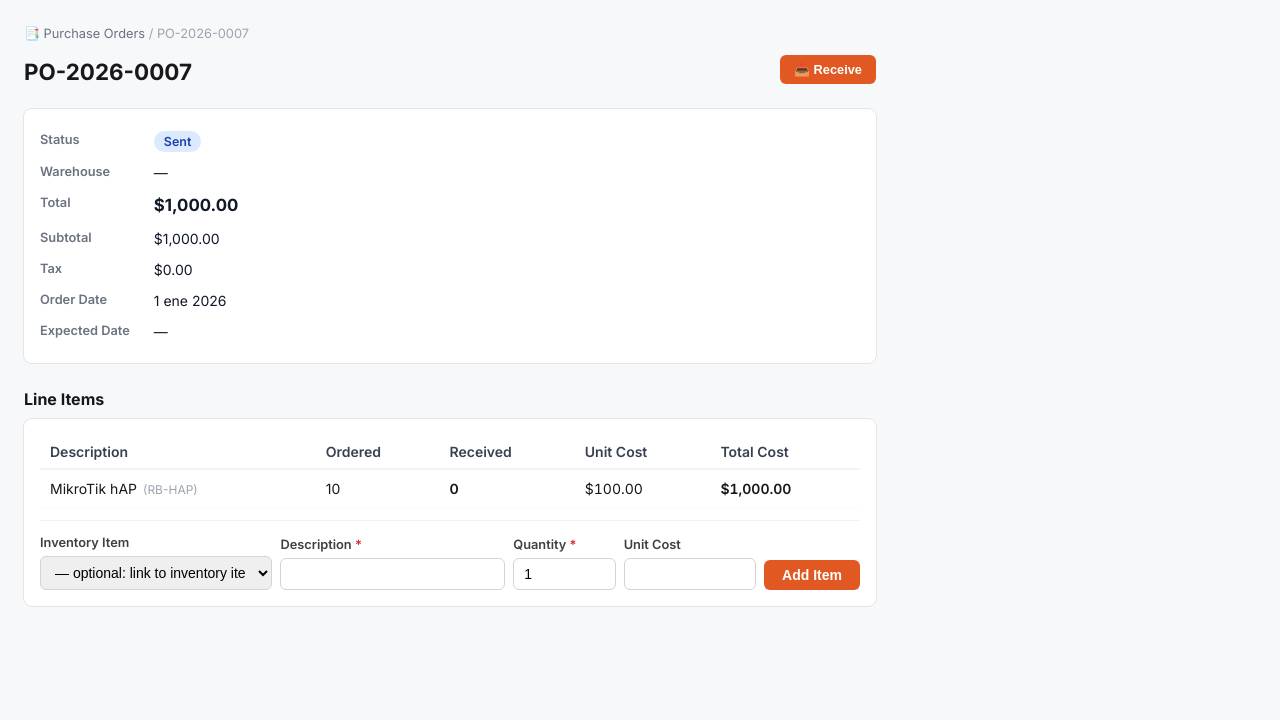
Test case: PurchaseOrderDetail page › serial_required line › does not render serial inputs for a non-serial-tracked line
Click the button "📥 Receive".
click(828, 70)  # box x1=780 y1=55 x2=876 y2=84
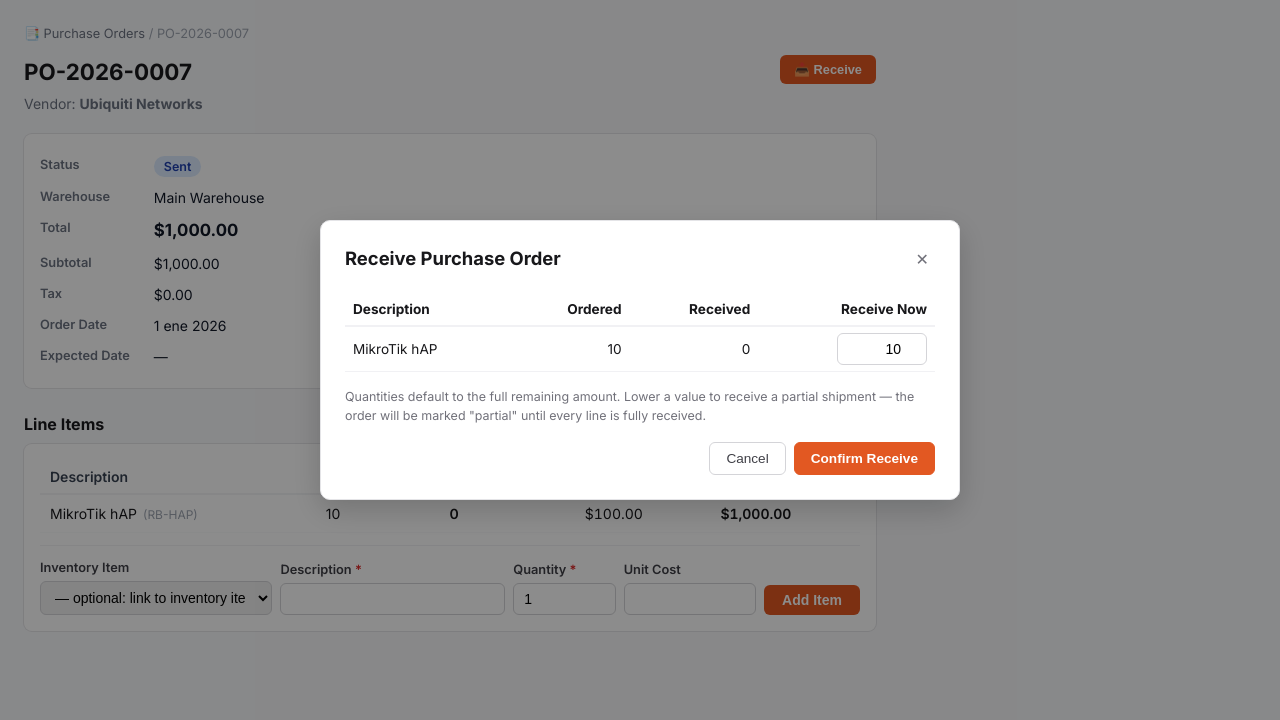
Now the button "Confirm Receive" is enabled, box x1=794 y1=442 x2=935 y2=475
